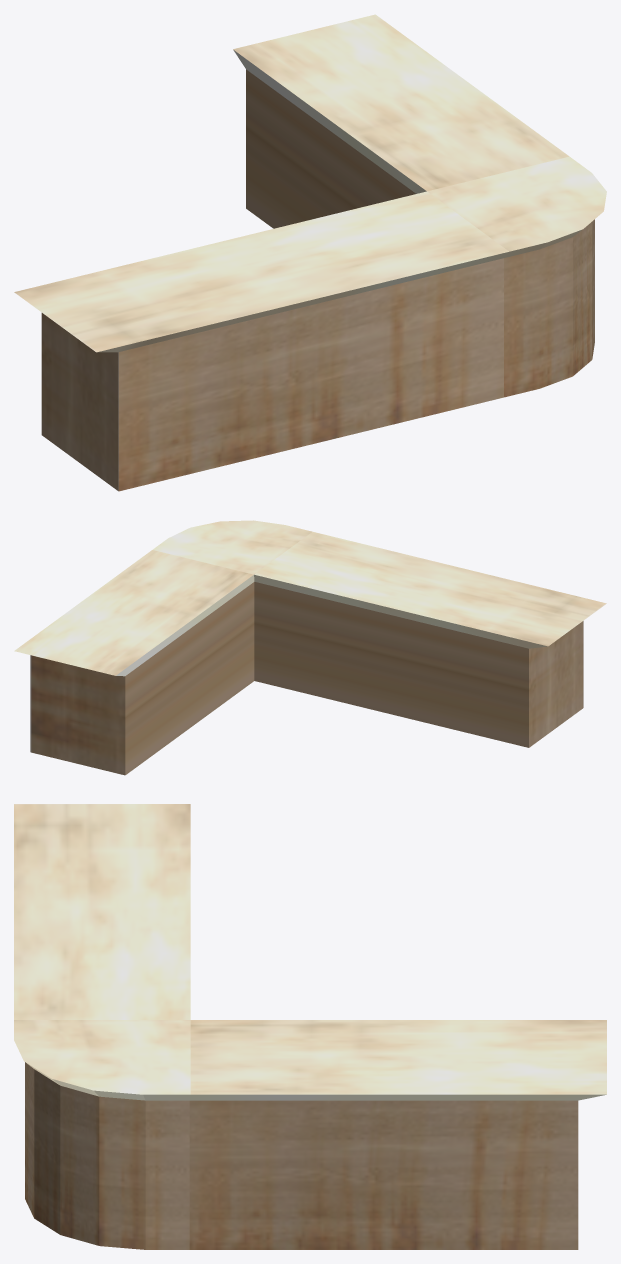
The model's file is Desk.obj.
The picture shows the model from 3 angles, top to bottom: view 1: azimuth 30°, elevation 25°; view 2: azimuth 150°, elevation 25°; view 3: azimuth 270°, elevation 25°; orthographic projection. The views are drawn at different scales.
Visible parts, largest first — view 1: Cube; view 2: Cube; view 3: Cube.
Boxes of the visible parts, box(x1,y1,x2,y2) form: Cube: box(14, 14, 606, 491); Cube: box(14, 520, 606, 775); Cube: box(14, 804, 606, 1249).
Bounding box in the file's own units: 8.35 × 2.15 × 7.2.
